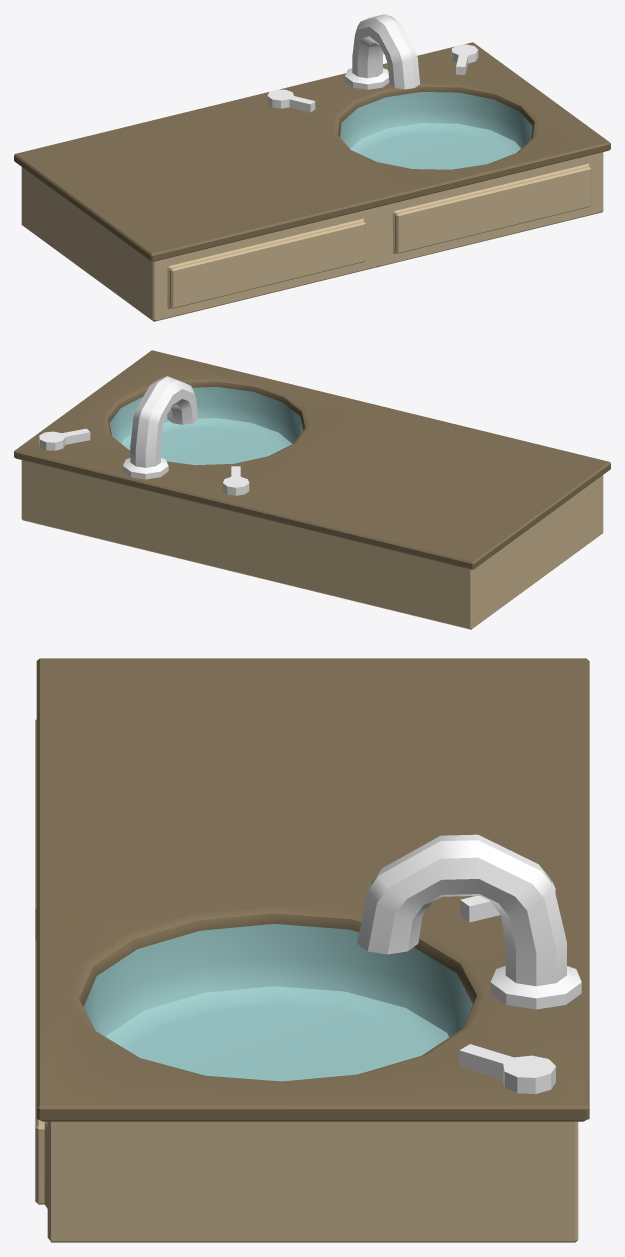
The model's file is Sink.fbx.
3 views of the same model, one above another, from view 1: azimuth 30°, elevation 25°; view 2: azimuth 150°, elevation 25°; view 3: azimuth 270°, elevation 25° (orthographic). The views are drawn at different scales.
Visible parts, largest first — view 1: drawerDouble2; view 2: drawerDouble2; view 3: drawerDouble2.
Part boxes in pixels (x1,y1,x2,y2): drawerDouble2: (14,14,610,321); drawerDouble2: (14,350,610,629); drawerDouble2: (35,658,589,1242).
Size of the model in its own units: 98.38 by 30.06 by 51.3.
